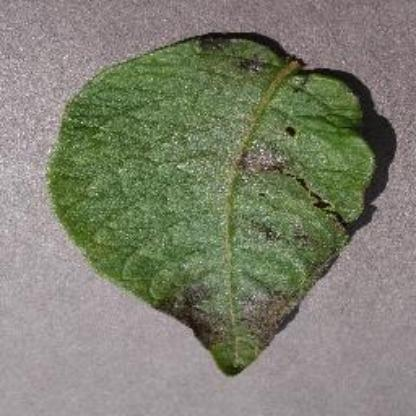Late-Blight: (44, 29, 387, 376)
